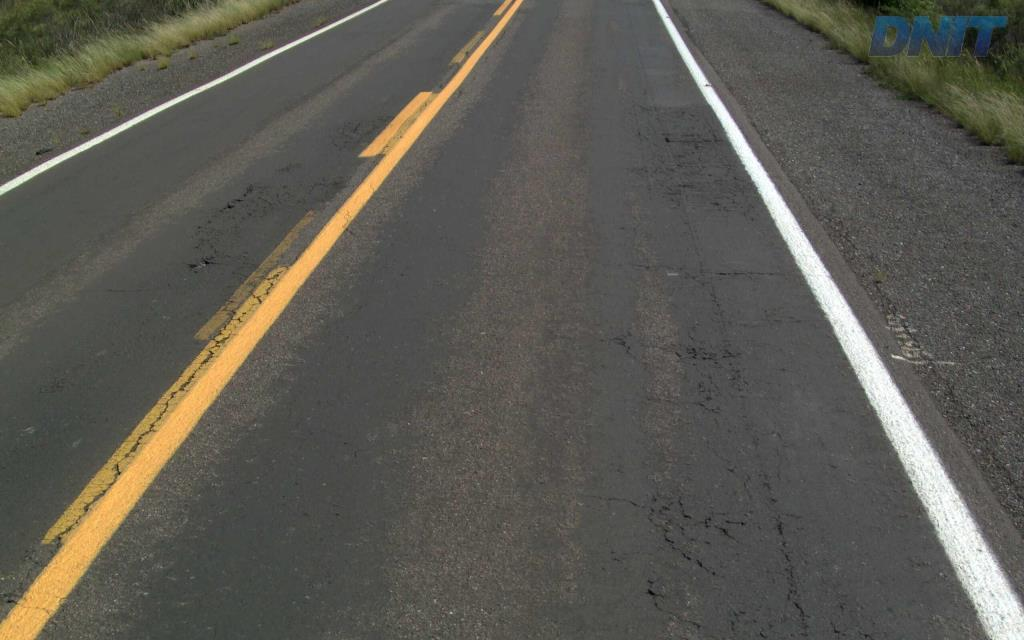crack: (650, 487, 725, 578), (769, 512, 810, 632), (684, 344, 723, 368)
